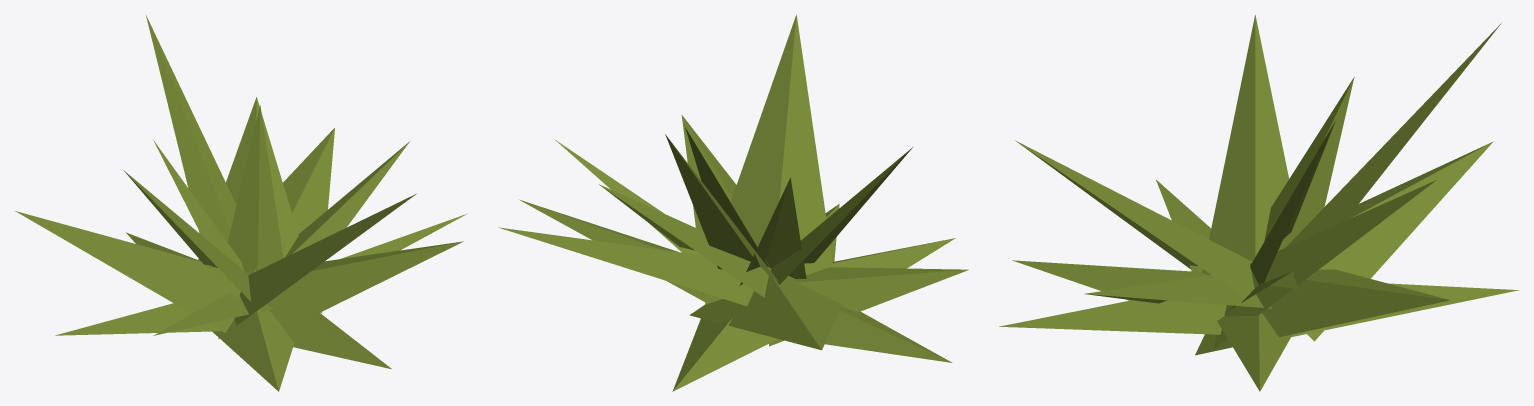
Rendered from mesh_west_spike_bush.fbx.
3 renders of one model, left to right at view 1: azimuth 30°, elevation 25°; view 2: azimuth 150°, elevation 25°; view 3: azimuth 270°, elevation 25°, orthographic. The views are drawn at different scales.
Parts seen in each view (by area): view 1: mesh_west_spike_bush; view 2: mesh_west_spike_bush; view 3: mesh_west_spike_bush.
Boxes of the visible parts, <box> form: mesh_west_spike_bush: <box>15,15,467,391</box>; mesh_west_spike_bush: <box>498,14,968,391</box>; mesh_west_spike_bush: <box>999,15,1519,391</box>.
Size of the model in its own units: 65.31 by 37.72 by 58.67.
